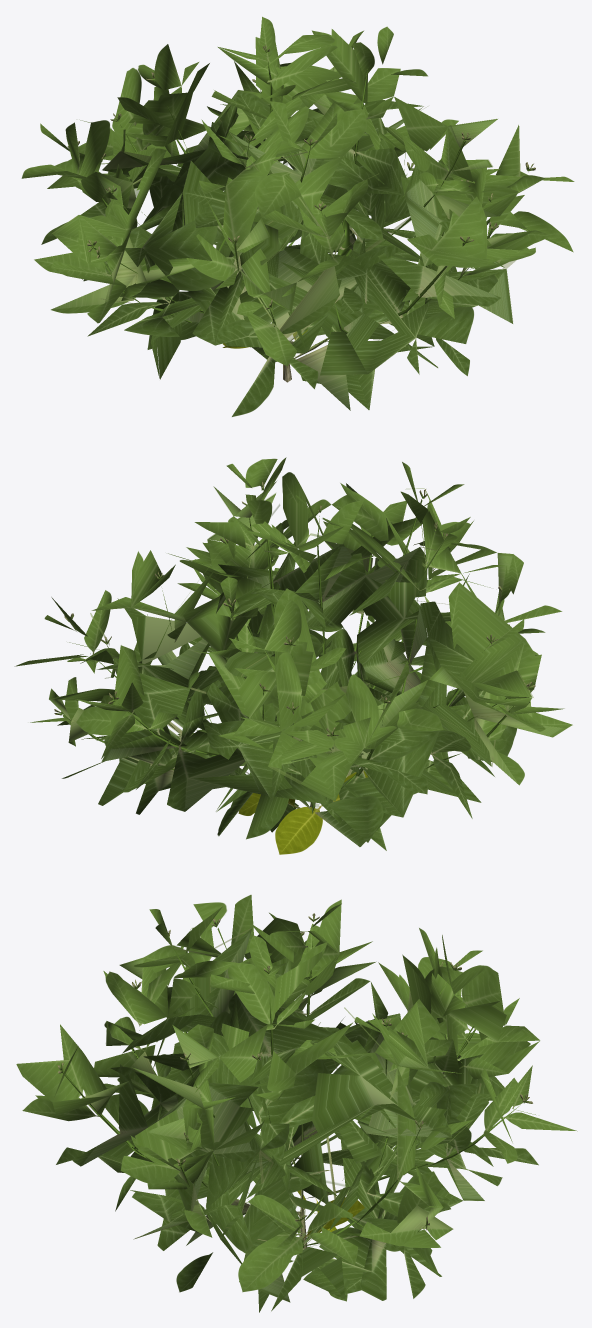
File: bush1.glb
3 renders of one model, top to bottom at view 1: azimuth 30°, elevation 25°; view 2: azimuth 150°, elevation 25°; view 3: azimuth 270°, elevation 25°, orthographic.
Visible parts, largest first — view 1: Ixora_chinensis_red_HD; view 2: Ixora_chinensis_red_HD; view 3: Ixora_chinensis_red_HD.
Part boxes in pixels (x1,y1,x2,y2): Ixora_chinensis_red_HD: (21, 16, 574, 416); Ixora_chinensis_red_HD: (14, 457, 572, 854); Ixora_chinensis_red_HD: (16, 895, 577, 1312).
Bounding box in the file's own units: 0.8351 × 0.5793 × 0.7762.
Materials: 6 (6 with a texture image).
